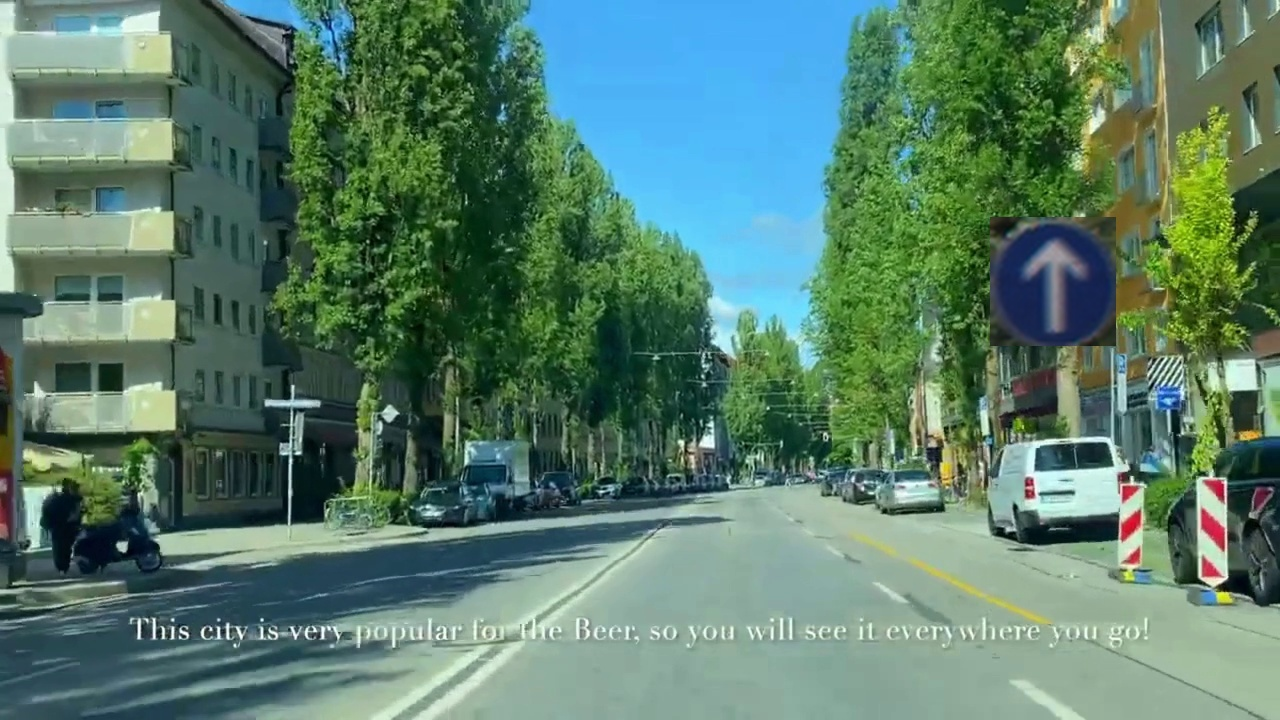Ahead only: (990, 217, 1116, 346)
